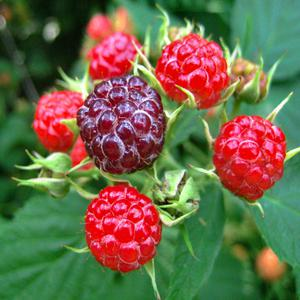raspb: (29, 20, 285, 269)
